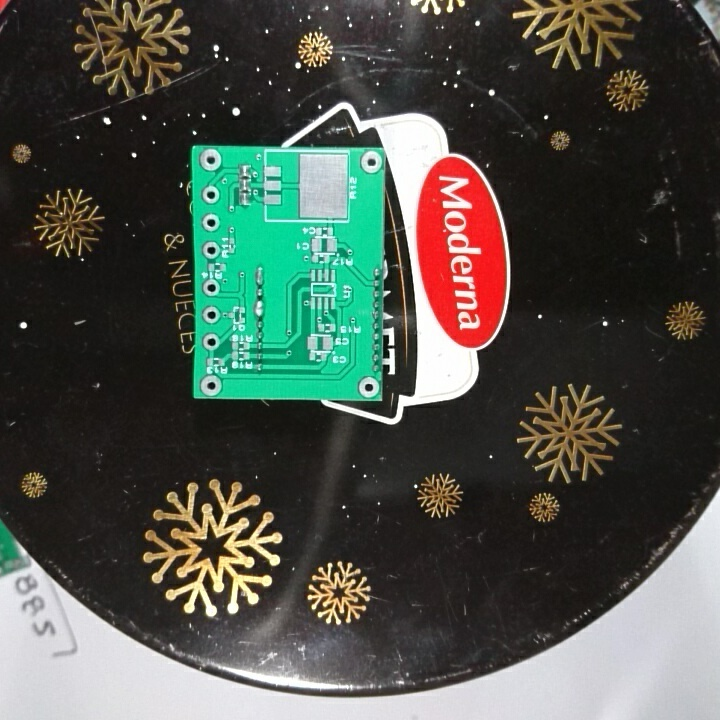F: (198, 147, 225, 172), (360, 149, 384, 176), (198, 374, 225, 398), (357, 376, 382, 398), (201, 212, 222, 236), (200, 303, 221, 326), (199, 183, 220, 206), (200, 240, 220, 263), (202, 332, 223, 353), (200, 278, 220, 299)
P: (252, 264, 268, 288), (251, 298, 267, 320)
